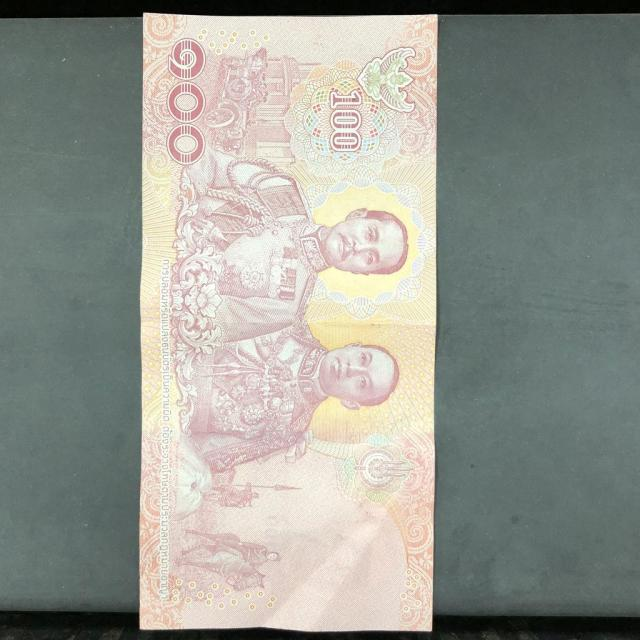THAI100: (138, 12, 439, 635)
